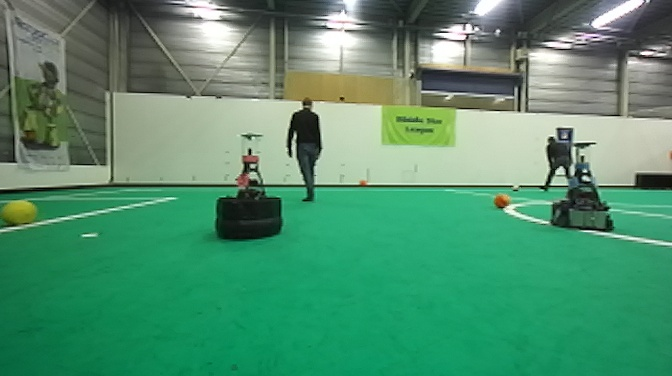ball: (1, 195, 40, 232), (490, 191, 512, 210), (505, 182, 522, 193), (358, 177, 369, 189)
human: (280, 93, 326, 205), (538, 131, 577, 195)
robot: (211, 130, 285, 245), (547, 138, 620, 237)
